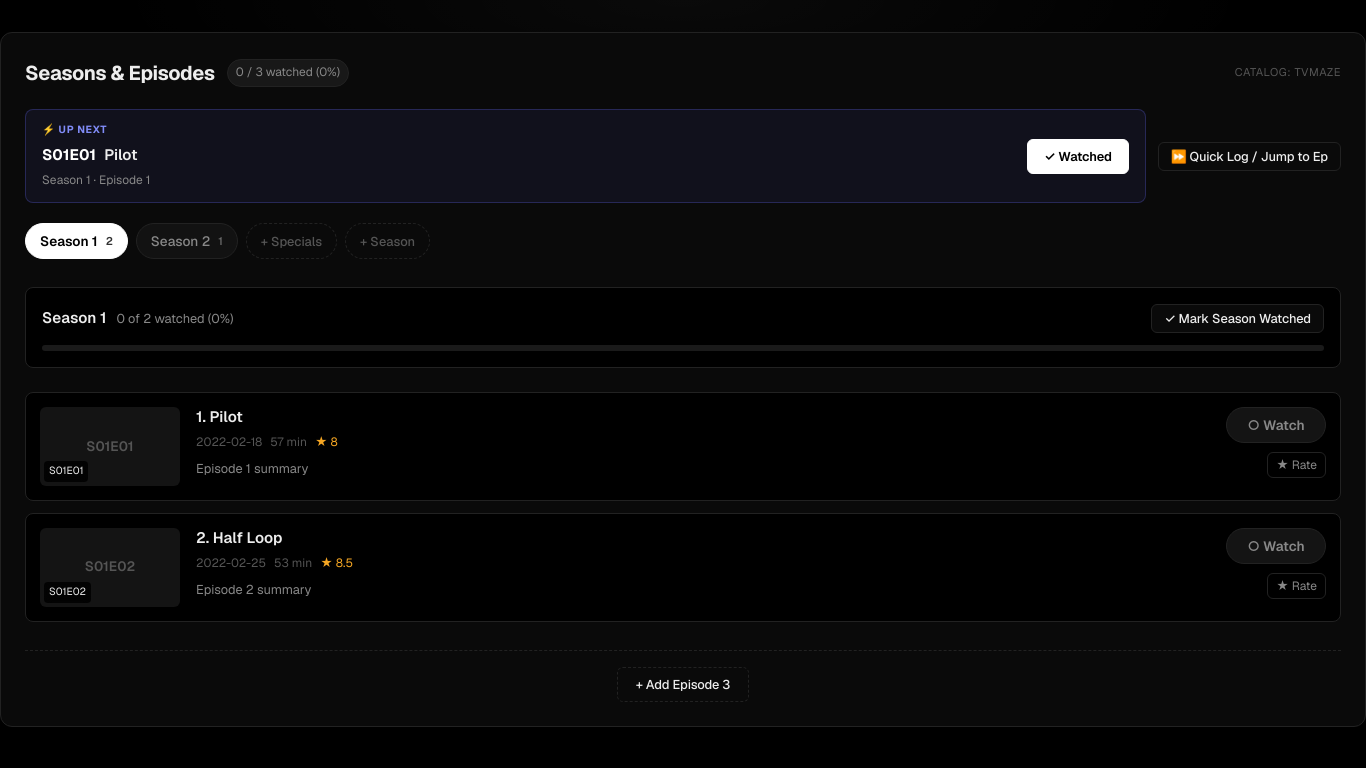
Test: TvEpisodeTracker.vue › supports Specials (Season 0) and adding custom specials
Click the button with class "season-action-btn" showing "+ Specials".
click(291, 241)  # box [246,223,337,259]
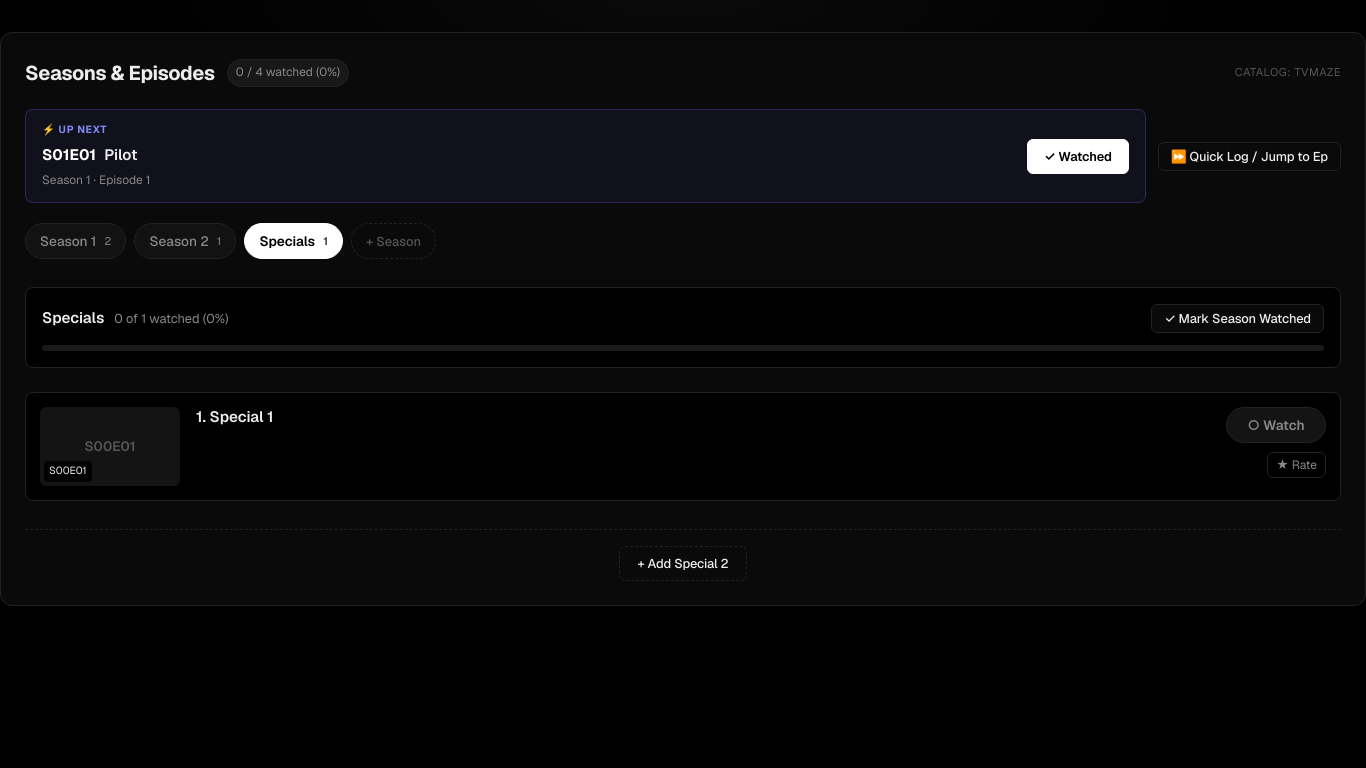
Check: the tab with class "season-pill-btn" shows "Specials", box [244,223,343,259]
Check: the number of elements with class "episode-card" is 1, box [25,392,1341,501]
Check: the element with class "episode-card" shows "Special 1", box [196,407,274,426]
